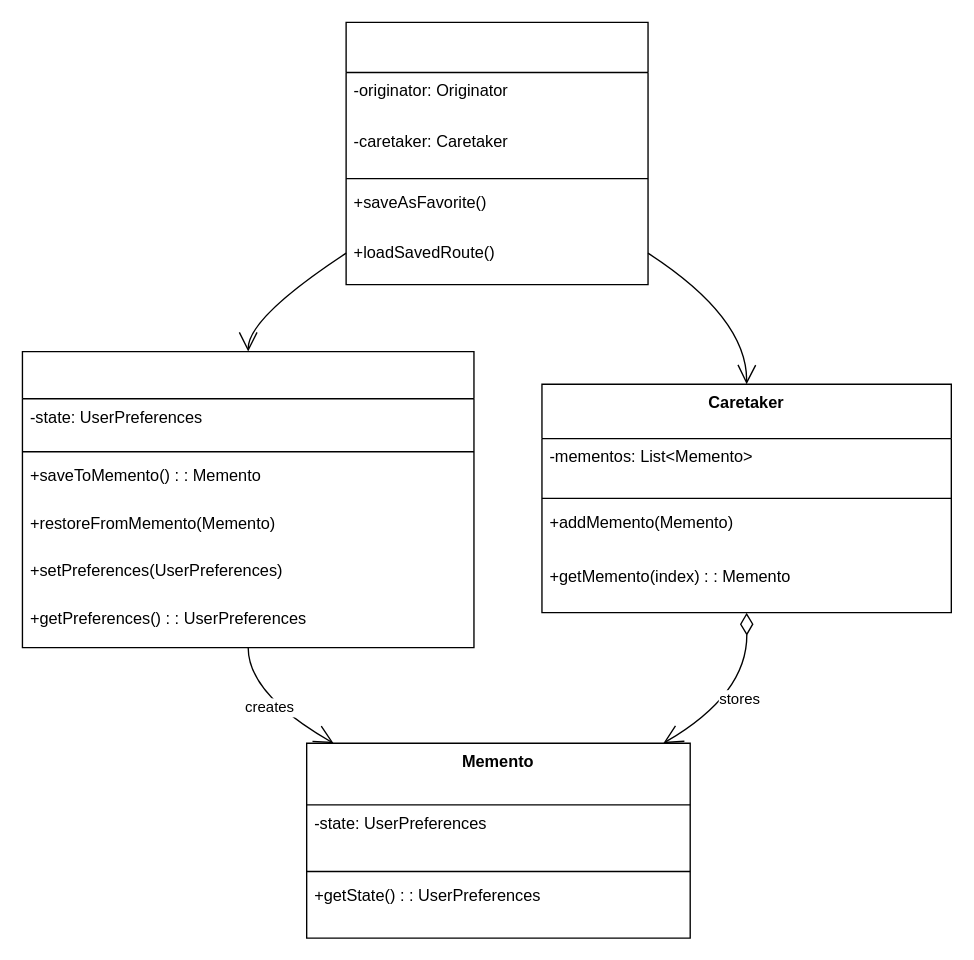
The diagram is 974 pixels wide and 960 high, and some of its shapes have lost their labels. The box of each missing label's shape, as (x1, y1, x2, y2) in pixels:
MobileApp: (345, 21, 648, 285)
Originator: (21, 350, 474, 648)
